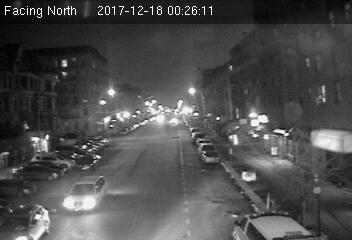car: (62, 175, 109, 213), (74, 154, 101, 168), (200, 150, 222, 164)
police: (227, 210, 323, 240)
